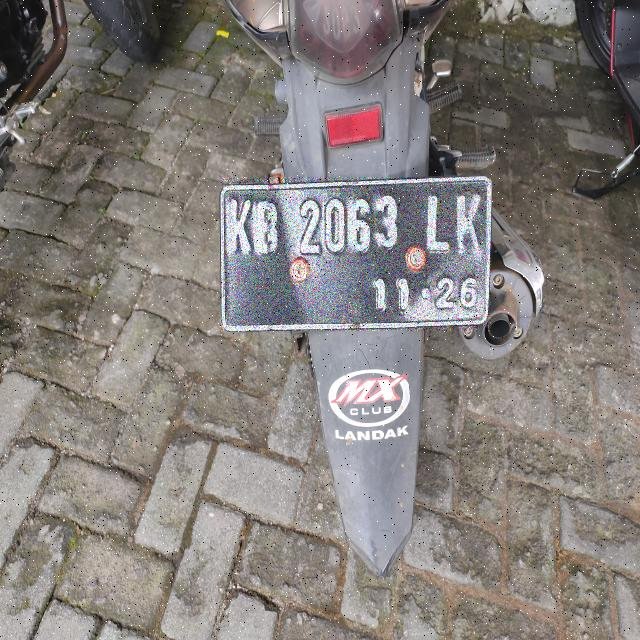plate: (221, 177, 490, 330)
